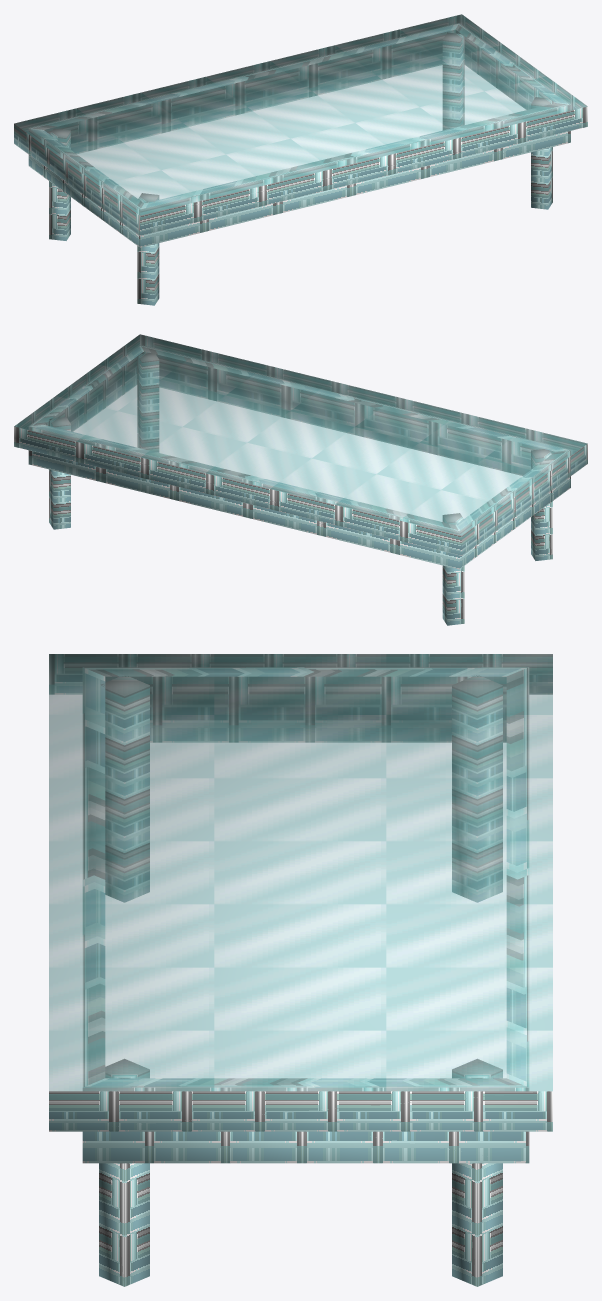
The model's file is 3102IMRL08_01.gltf.
3 renders of one model, top to bottom at view 1: azimuth 30°, elevation 25°; view 2: azimuth 150°, elevation 25°; view 3: azimuth 270°, elevation 25°, orthographic. The views are drawn at different scales.
Visible parts, largest first — view 1: 3102IMRL08_01; view 2: 3102IMRL08_01; view 3: 3102IMRL08_01.
Part boxes in pixels (x1=…): 3102IMRL08_01: x1=14, y1=14, x2=587, y2=305; 3102IMRL08_01: x1=14, y1=334, x2=587, y2=625; 3102IMRL08_01: x1=49, y1=654, x2=552, y2=1286.
Size of the model in its own units: 1.95 by 0.4399 by 0.9502.
2 materials, 2 textured.
